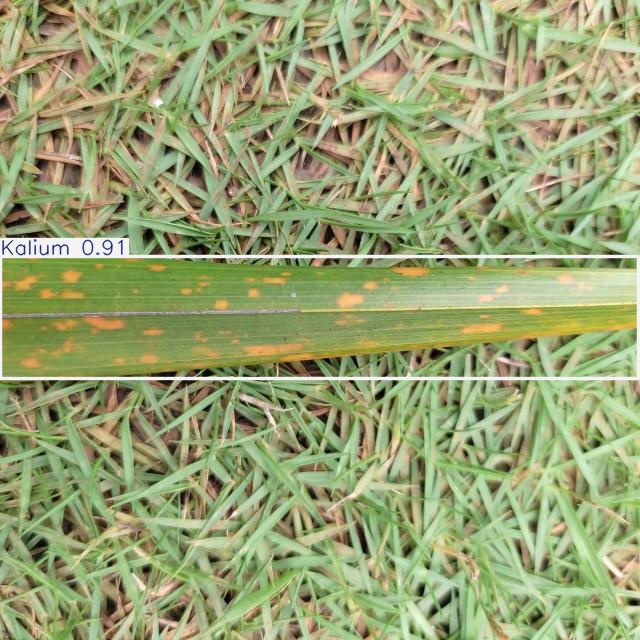Kalium: (0, 256, 639, 378)
